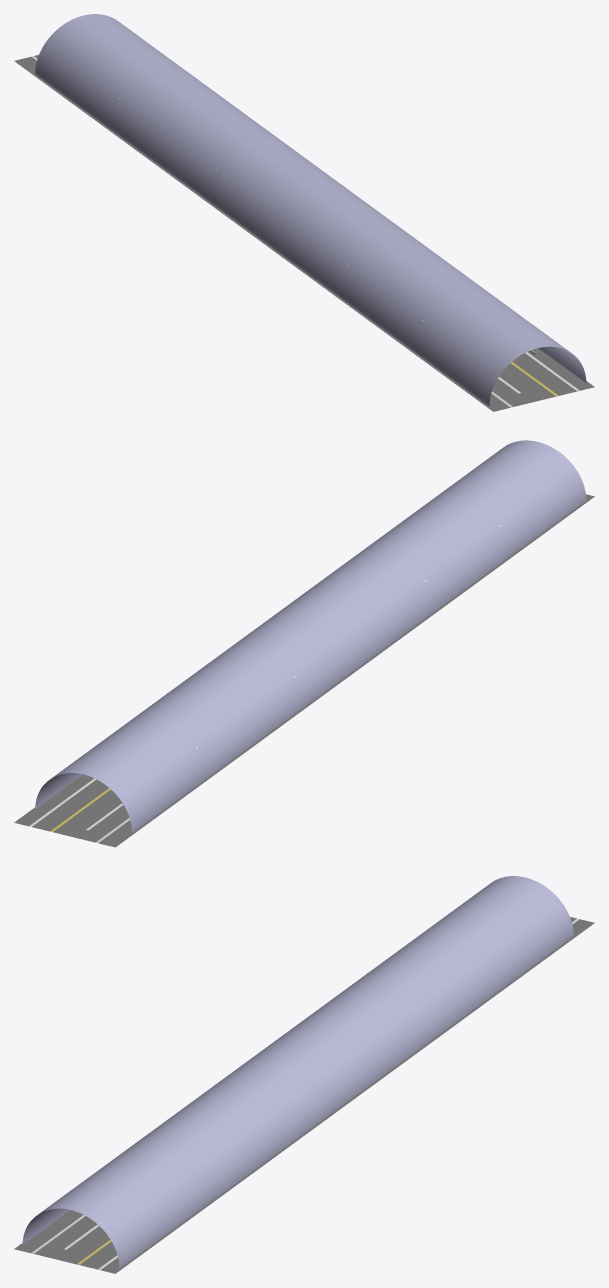
Rendered from tunnel.glb.
The picture shows the model from 3 angles, top to bottom: view 1: azimuth 30°, elevation 25°; view 2: azimuth 150°, elevation 25°; view 3: azimuth 330°, elevation 25°; orthographic projection.
Visible parts, largest first — view 1: object 1, object 123; view 2: object 1, object 123; view 3: object 1, object 123.
Boxes of the visible parts, x1,y1,x2,y2 form: object 1: (35,14,586,406); object 123: (14,55,594,411); object 1: (35,440,586,832); object 123: (14,494,594,847); object 1: (22,876,573,1268); object 123: (14,917,594,1273).
Bounding box in the file's own units: 0.7043 × 0.3107 × 5.76.
